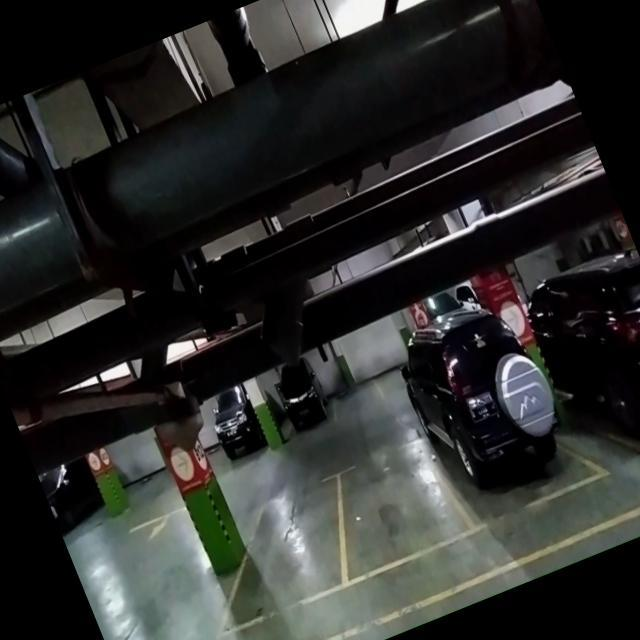empty: (234, 472, 375, 614), (334, 434, 471, 576)
occupied: (408, 342, 591, 533)
